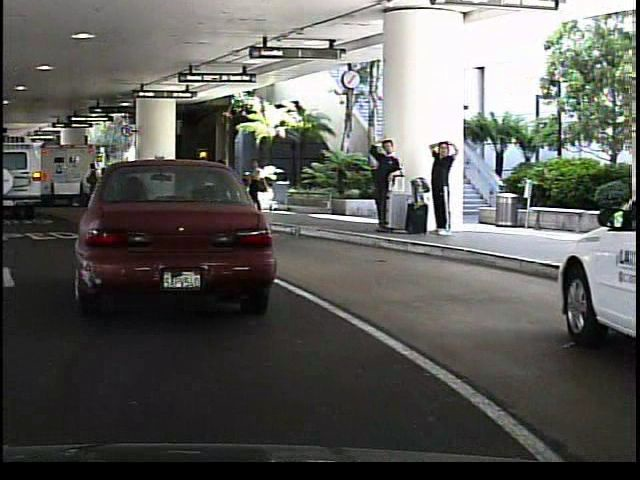person: (423, 134, 457, 236), (367, 134, 399, 234), (241, 155, 268, 219), (373, 153, 393, 226)
